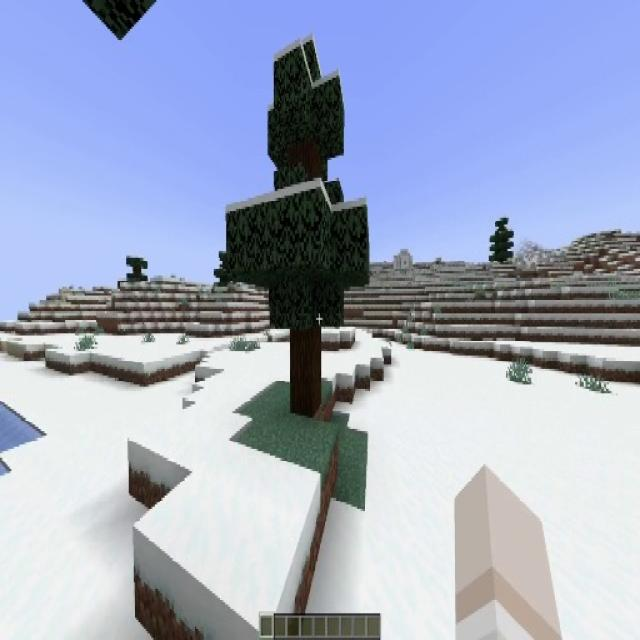spruce: (225, 39, 372, 416), (488, 212, 515, 266)
spruce_log: (289, 331, 321, 418)
